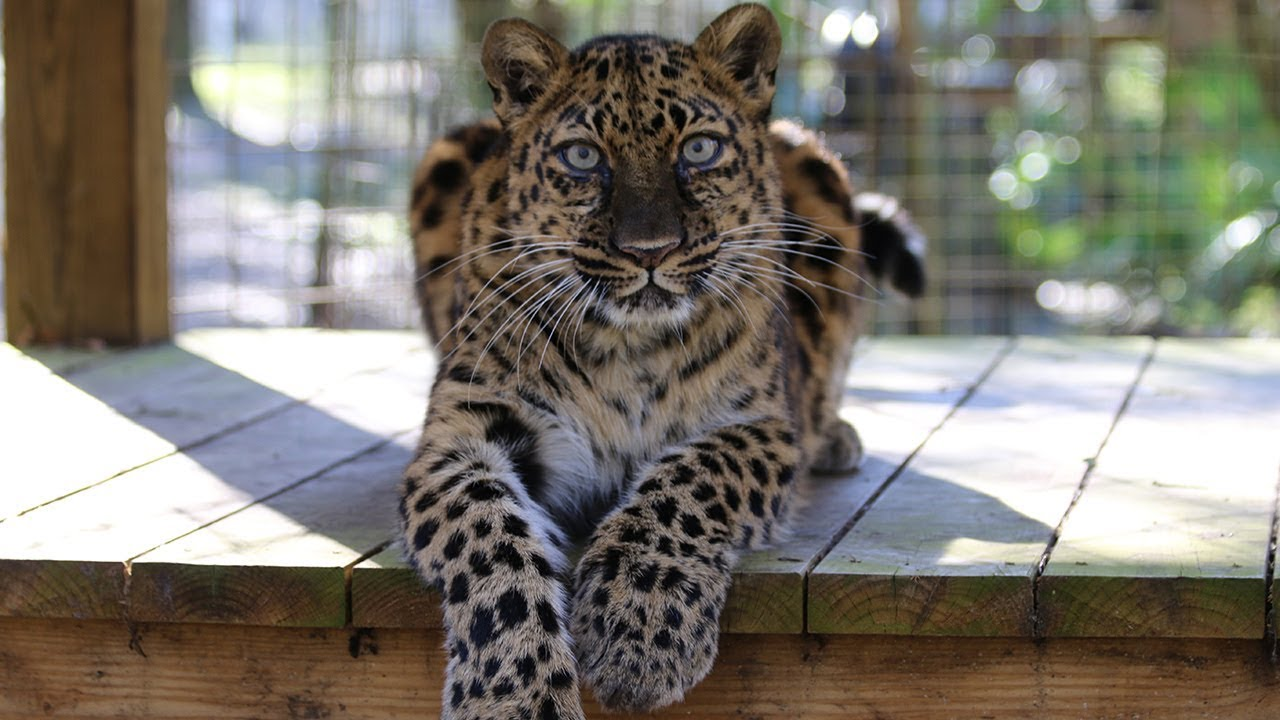amur_leopard: (439, 5, 868, 343)
